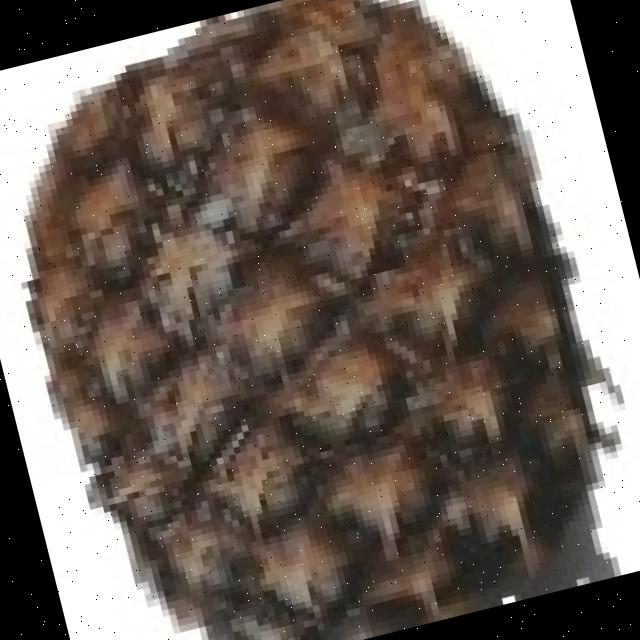pineapple: (27, 0, 616, 640)
